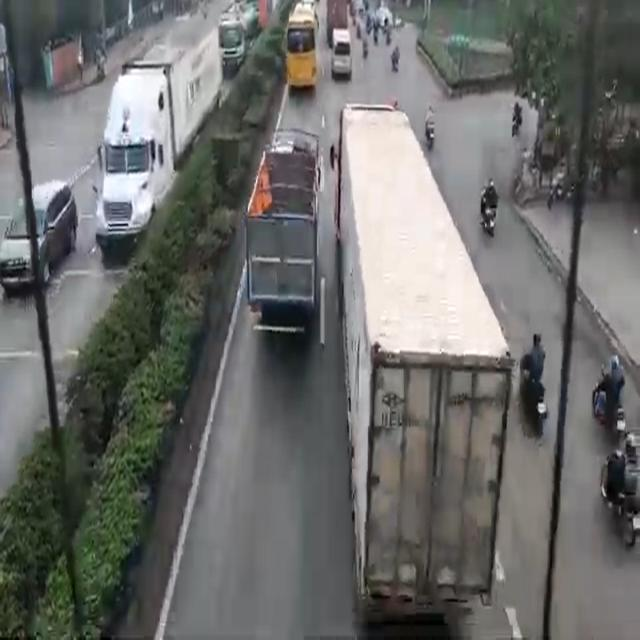bus: (287, 11, 316, 88)
car: (5, 173, 66, 290), (327, 16, 354, 82)
motor: (600, 451, 640, 546), (591, 368, 629, 443), (520, 358, 544, 427), (479, 169, 497, 232)
truck: (334, 100, 491, 598), (101, 28, 219, 235), (256, 141, 319, 331)
